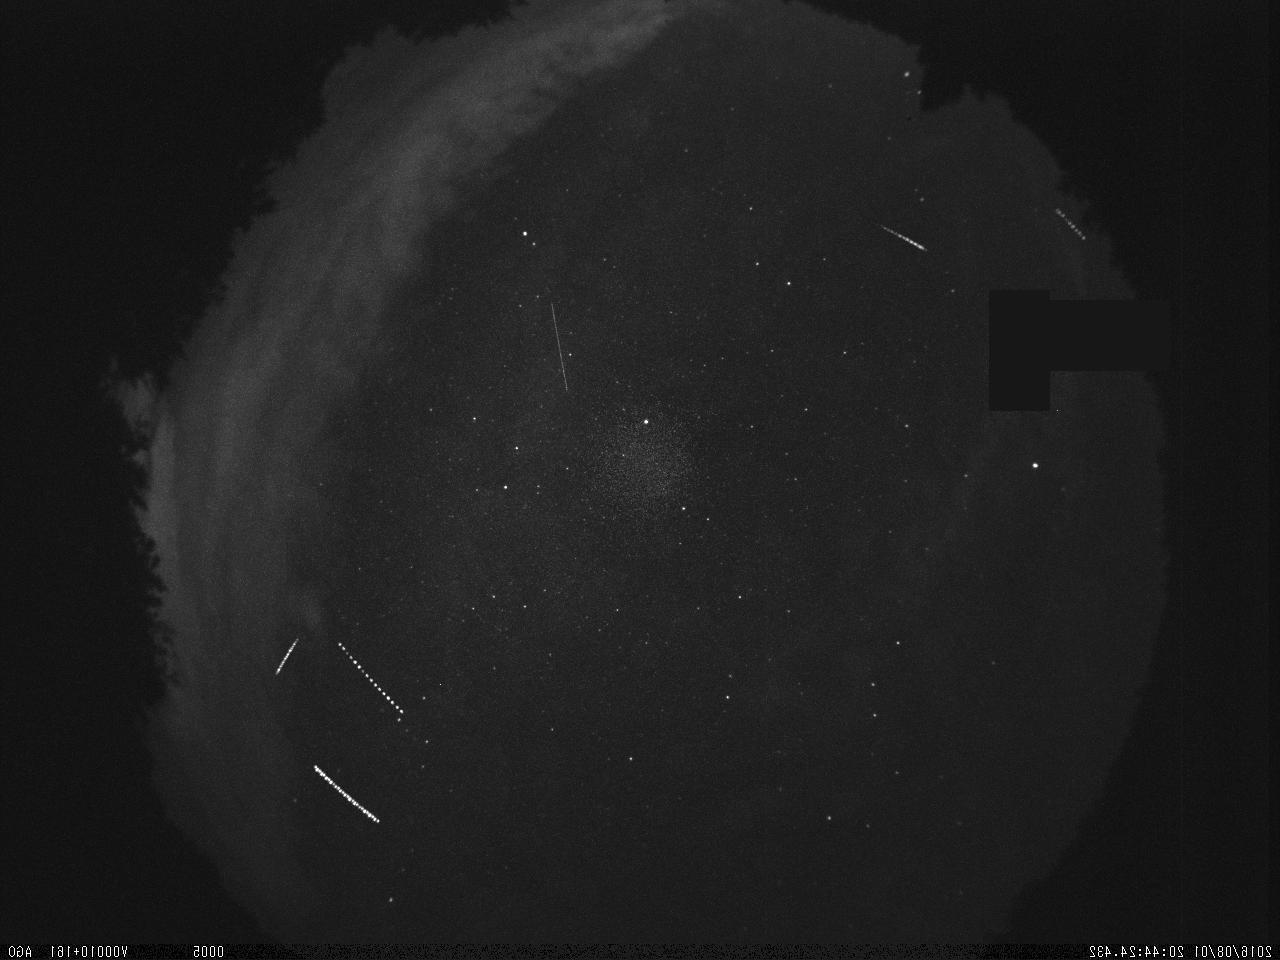meteor: (860, 215, 935, 262)
satelite: (331, 628, 410, 725), (306, 757, 388, 832), (545, 294, 574, 398), (1044, 203, 1096, 251), (267, 633, 304, 683)
